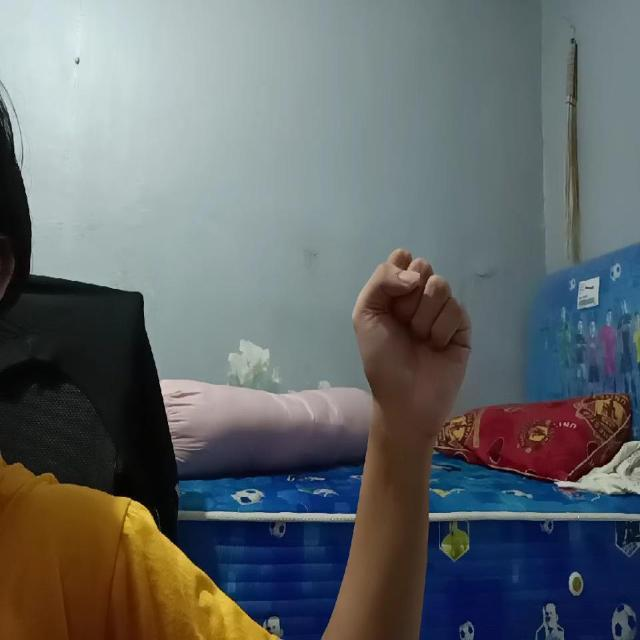fist: (350, 227, 470, 441)
